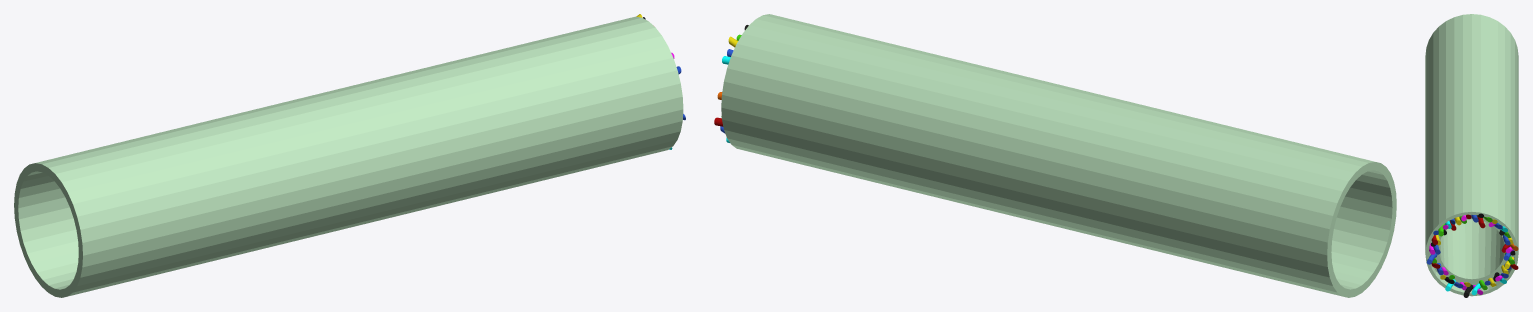
The model's file is Tube_Entree.fbx.
The picture shows the model from 3 angles, left to right: view 1: azimuth 30°, elevation 25°; view 2: azimuth 150°, elevation 25°; view 3: azimuth 270°, elevation 25°; orthographic projection. The views are drawn at different scales.
Visible parts, largest first — view 1: Cylinder; view 2: Cylinder; view 3: Cylinder.
Boxes of the visible parts, left/top/right/bottom form: Cylinder: left=14, top=16, right=683, bottom=297; Cylinder: left=721, top=14, right=1396, bottom=297; Cylinder: left=1425, top=14, right=1518, bottom=296.
Bounding box in the file's own units: 896 × 175 × 174.
